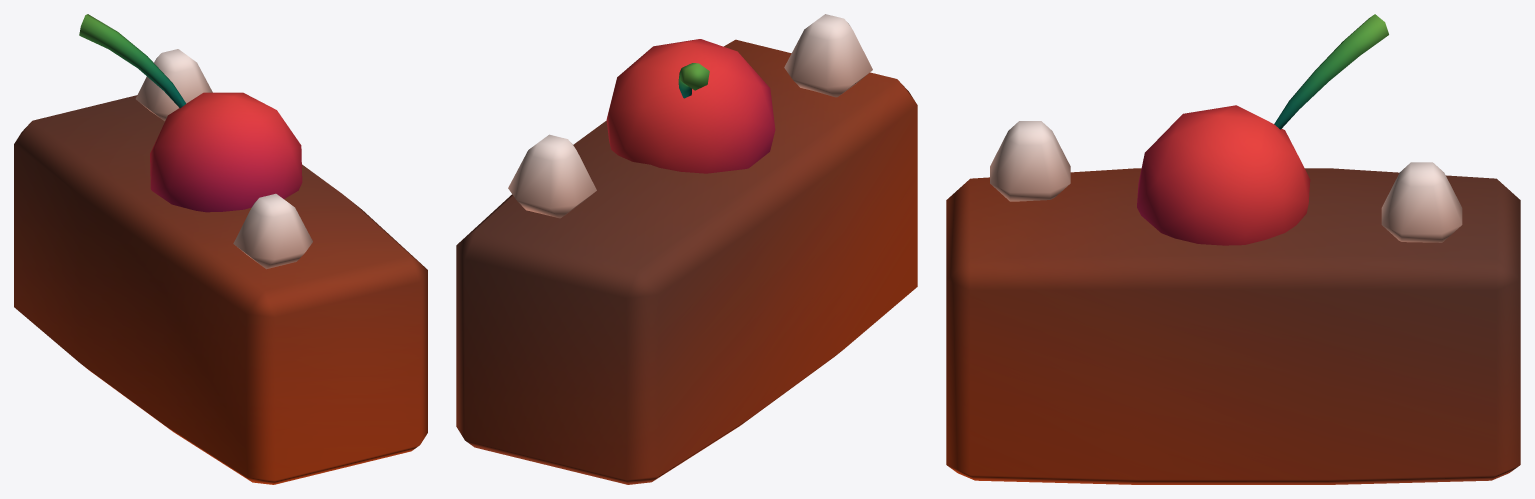
File: pastry_002.fbx
3 renders of one model, left to right at view 1: azimuth 30°, elevation 25°; view 2: azimuth 150°, elevation 25°; view 3: azimuth 270°, elevation 25°, orthographic. The views are drawn at different scales.
Visible parts, largest first — view 1: pastry_002; view 2: pastry_002; view 3: pastry_002.
Boxes of the visible parts, x1,y1,x2,y2 form: pastry_002: [14, 14, 427, 484]; pastry_002: [456, 14, 917, 484]; pastry_002: [946, 14, 1520, 484].
Bounding box in the file's own units: 4.25 × 9.45 × 6.91.
